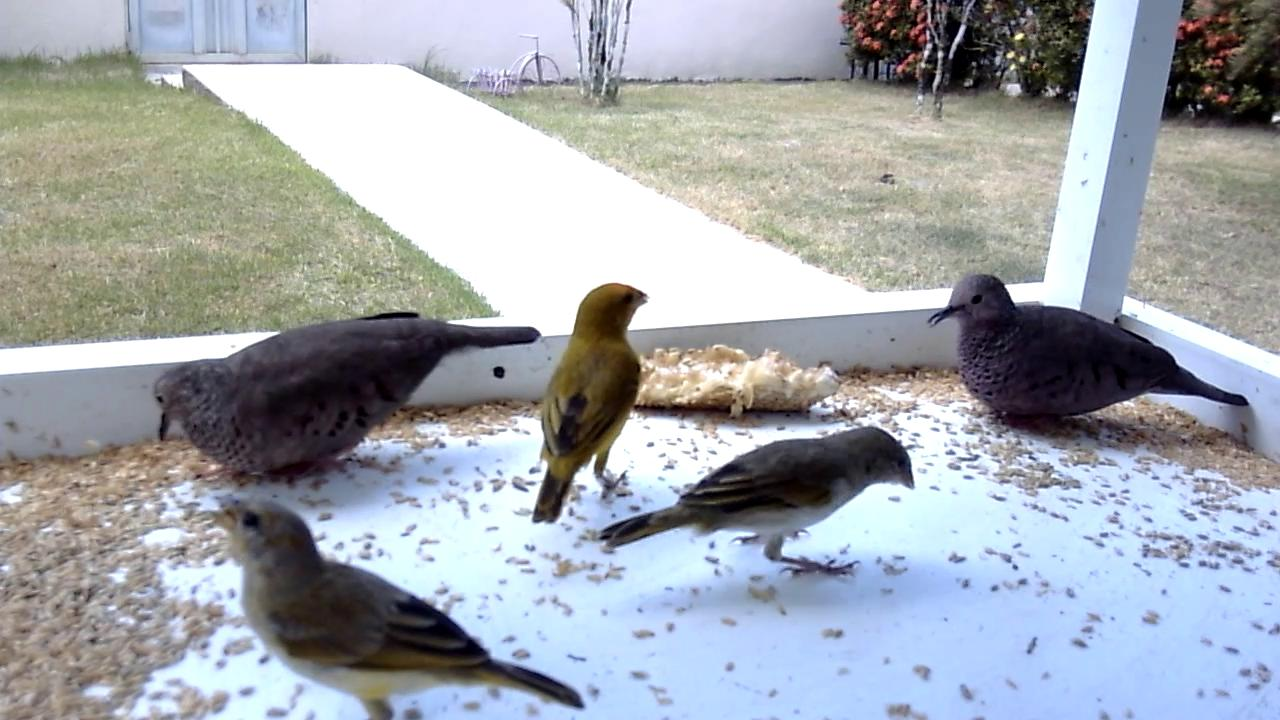canario_do_amazonas: (205, 493, 587, 720), (596, 422, 920, 582), (528, 281, 654, 527)
rolinha: (149, 305, 547, 484), (924, 269, 1254, 428)
